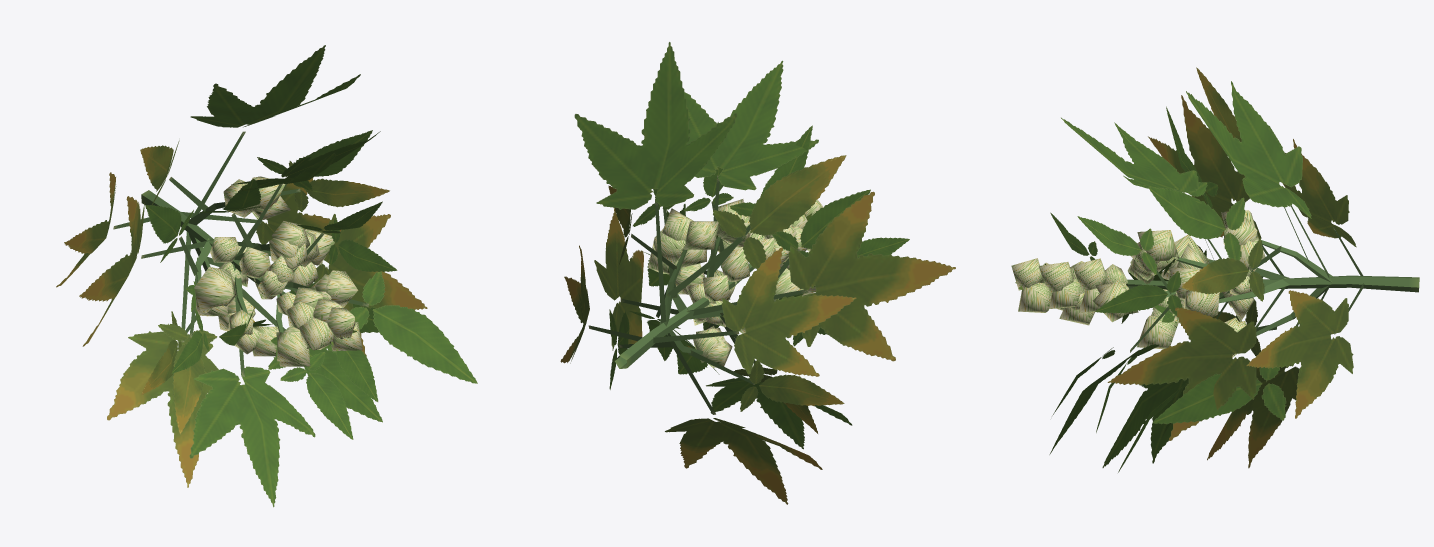
The model's file is p_male_auto_ripe_c0_cards.obj.
The picture shows the model from 3 angles, left to right: view 1: azimuth 30°, elevation 25°; view 2: azimuth 150°, elevation 25°; view 3: azimuth 270°, elevation 25°; orthographic projection. The views are drawn at different scales.
Size of the model in its own units: 1.23 by 1.38 by 0.988.
Materials: 1 (1 with a texture image).
